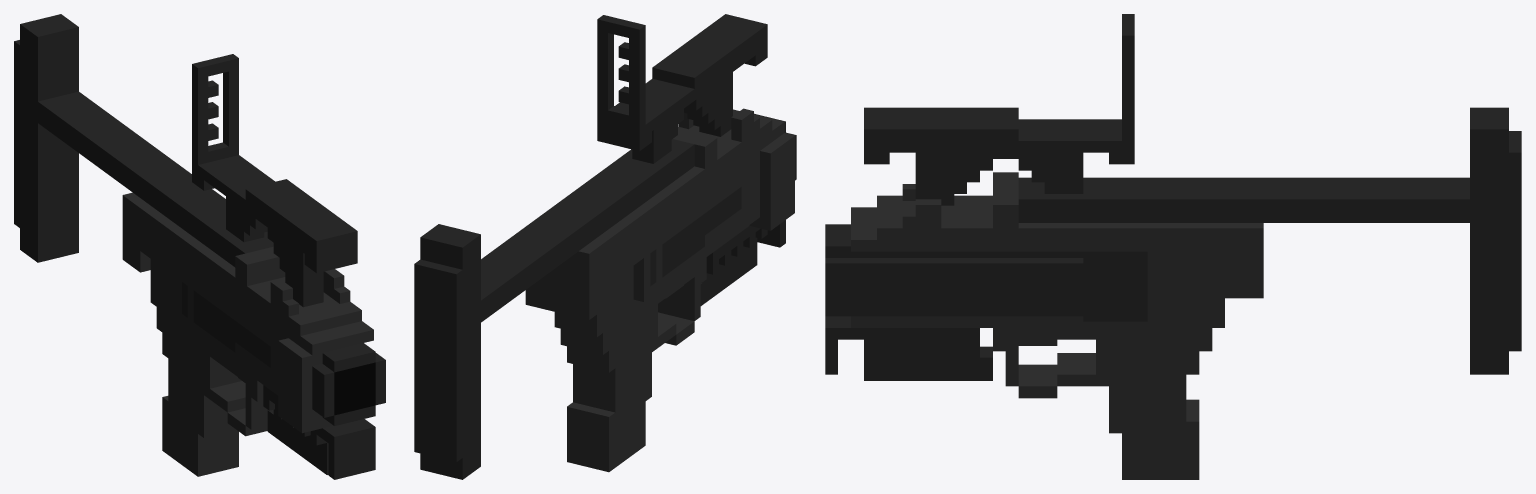
Rendered from GrenadeLauncher_1.obj.
The picture shows the model from 3 angles, left to right: view 1: azimuth 30°, elevation 25°; view 2: azimuth 150°, elevation 25°; view 3: azimuth 270°, elevation 25°; orthographic projection. The views are drawn at different scales.
Size of the model in its own units: 7 by 38 by 54.
